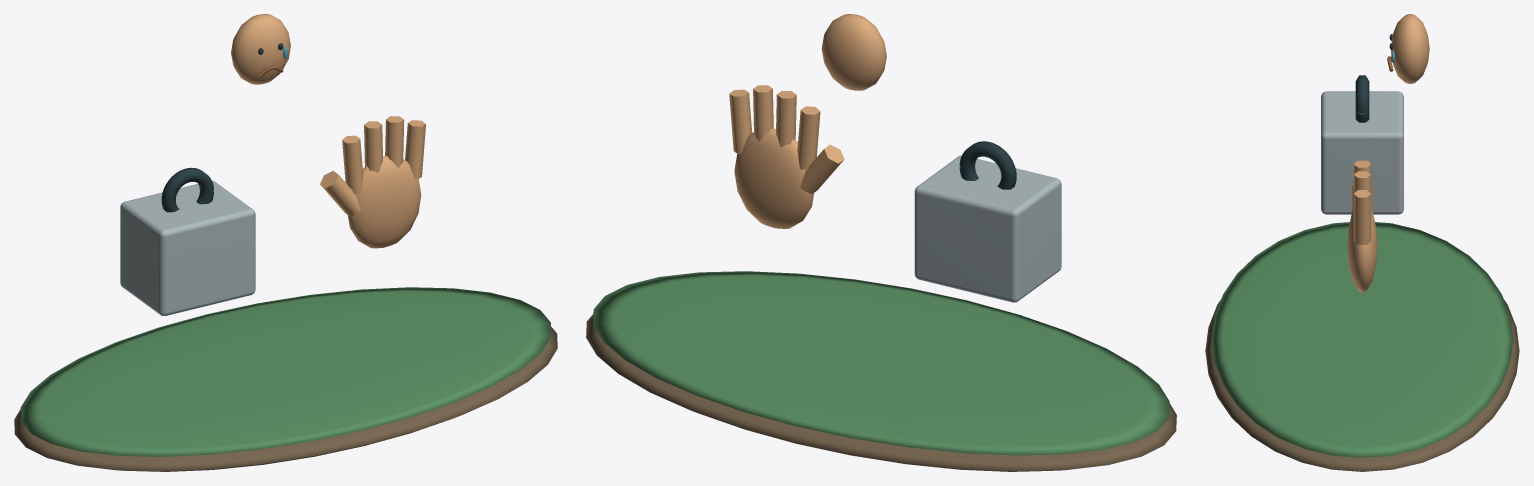
Rendered from complete-third-difficult-acceptance.glb.
3 views of the same model, side by side, from view 1: azimuth 30°, elevation 25°; view 2: azimuth 150°, elevation 25°; view 3: azimuth 270°, elevation 25° (orthographic). The views are drawn at different scales.
Parts seen in each view (by area): view 1: complete-third-difficult-acceptance_surface_01, complete-third-difficult-acceptance_surface_02, complete-third-difficult-acceptance_surface_04, complete-third-difficult-acceptance_surface_00, complete-third-difficult-acceptance_surface_03; view 2: complete-third-difficult-acceptance_surface_01, complete-third-difficult-acceptance_surface_02, complete-third-difficult-acceptance_surface_04, complete-third-difficult-acceptance_surface_00, complete-third-difficult-acceptance_surface_03; view 3: complete-third-difficult-acceptance_surface_01, complete-third-difficult-acceptance_surface_02, complete-third-difficult-acceptance_surface_00, complete-third-difficult-acceptance_surface_04, complete-third-difficult-acceptance_surface_03.
Part boxes in pixels (x1=…): complete-third-difficult-acceptance_surface_01: x1=20, y1=287, x2=551, y2=456; complete-third-difficult-acceptance_surface_02: x1=120, y1=181, x2=255, y2=315; complete-third-difficult-acceptance_surface_04: x1=231, y1=14, x2=425, y2=248; complete-third-difficult-acceptance_surface_00: x1=14, y1=327, x2=557, y2=471; complete-third-difficult-acceptance_surface_03: x1=161, y1=43, x2=283, y2=212; complete-third-difficult-acceptance_surface_01: x1=593, y1=271, x2=1169, y2=455; complete-third-difficult-acceptance_surface_02: x1=914, y1=155, x2=1061, y2=302; complete-third-difficult-acceptance_surface_04: x1=729, y1=14, x2=886, y2=228; complete-third-difficult-acceptance_surface_00: x1=586, y1=314, x2=1176, y2=471; complete-third-difficult-acceptance_surface_03: x1=959, y1=141, x2=1016, y2=189; complete-third-difficult-acceptance_surface_01: x1=1211, y1=222, x2=1513, y2=457; complete-third-difficult-acceptance_surface_02: x1=1321, y1=91, x2=1403, y2=214; complete-third-difficult-acceptance_surface_00: x1=1205, y1=300, x2=1519, y2=471; complete-third-difficult-acceptance_surface_04: x1=1347, y1=14, x2=1429, y2=292; complete-third-difficult-acceptance_surface_03: x1=1355, y1=34, x2=1393, y2=122.
Size of the model in its own units: 4.56 by 3.07 by 2.5.
